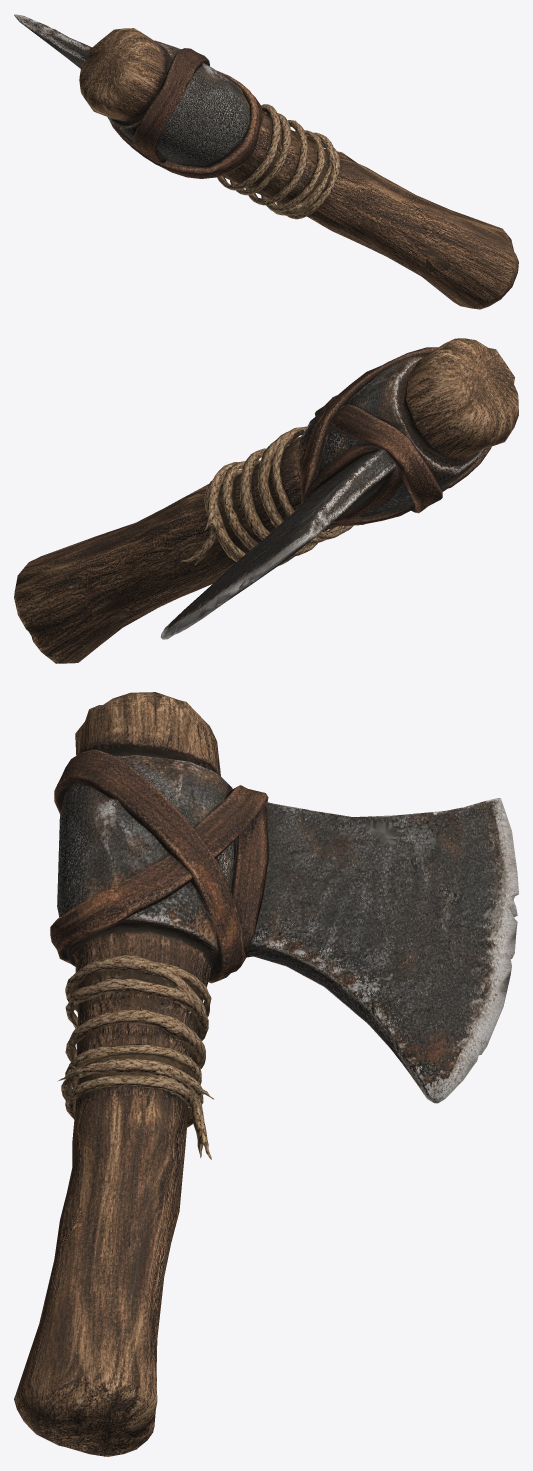
The model's file is tripo_convert_5e62ca64-ddfa-4b56-bbd1-8f49bf812b18.fbx.
3 views of the same model, one above another, from view 1: azimuth 30°, elevation 25°; view 2: azimuth 150°, elevation 25°; view 3: azimuth 270°, elevation 25° (orthographic). The views are drawn at different scales.
Parts seen in each view (by area): view 1: tripo_node_5e62ca64; view 2: tripo_node_5e62ca64; view 3: tripo_node_5e62ca64.
Part boxes in pixels (x1,y1,x2,y2): tripo_node_5e62ca64: [14, 14, 518, 309]; tripo_node_5e62ca64: [14, 338, 518, 663]; tripo_node_5e62ca64: [14, 692, 518, 1456].
Size of the model in its own units: 0.998 by 0.8066 by 0.709.
Materials: 1 (1 with a texture image).
